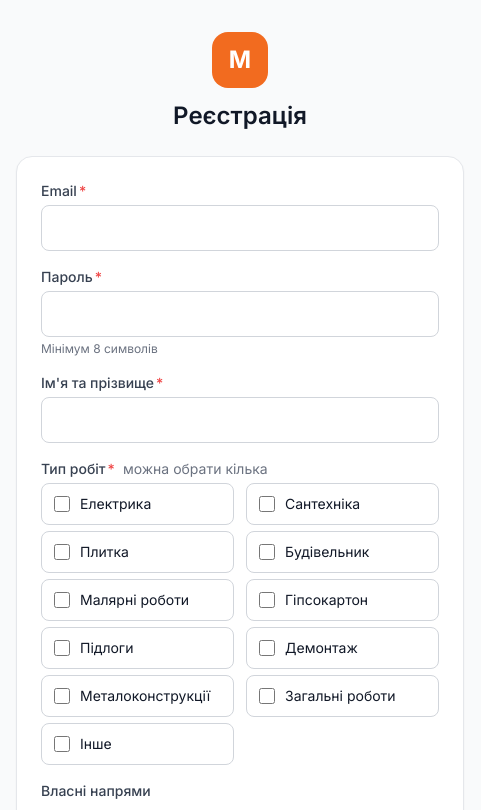
Test case: RegisterPage — privacy consent › blocks submit until the consent box is ticked
The image size is (481, 810).
In the field with id "email": (240, 228) [41,205,439,251], type "a@b.com"
In the password field labelled "Пароль* Мінімум 8 символів": (240, 314) [41,291,439,337], type "Sup3rPass!"
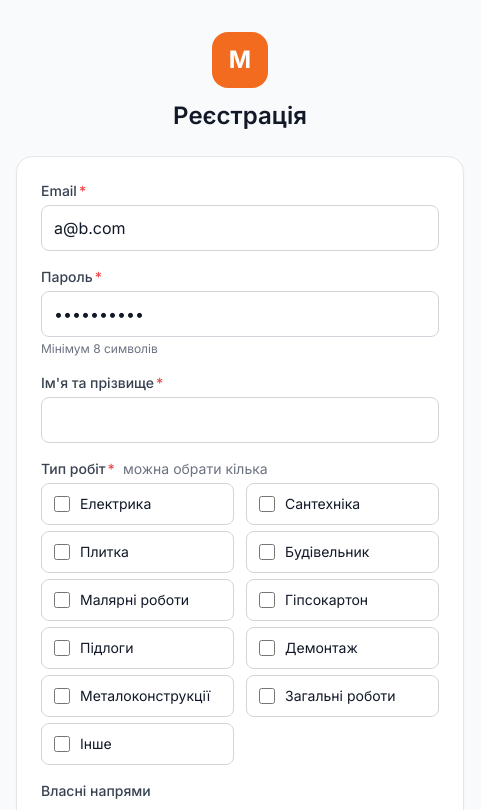
In the field with id "fullName": (240, 420) [41,397,439,443], type "Іван"
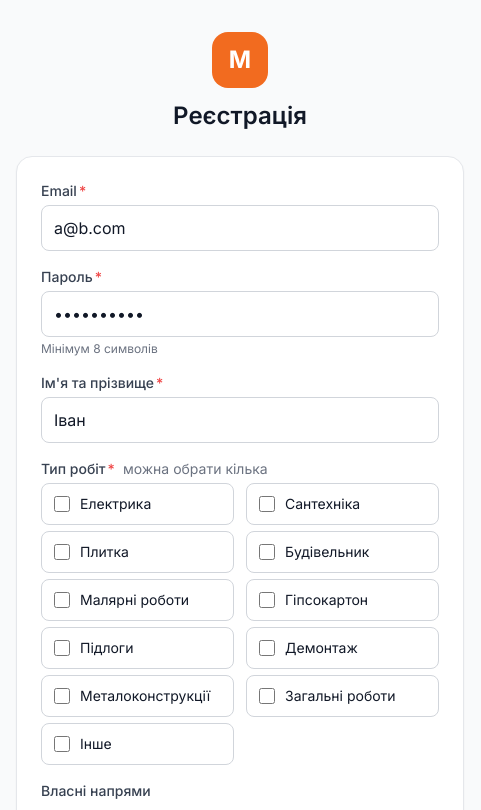
Click the checkbox labelled "Електрика": (62, 504) [54,496,70,512]
(page scrolled)
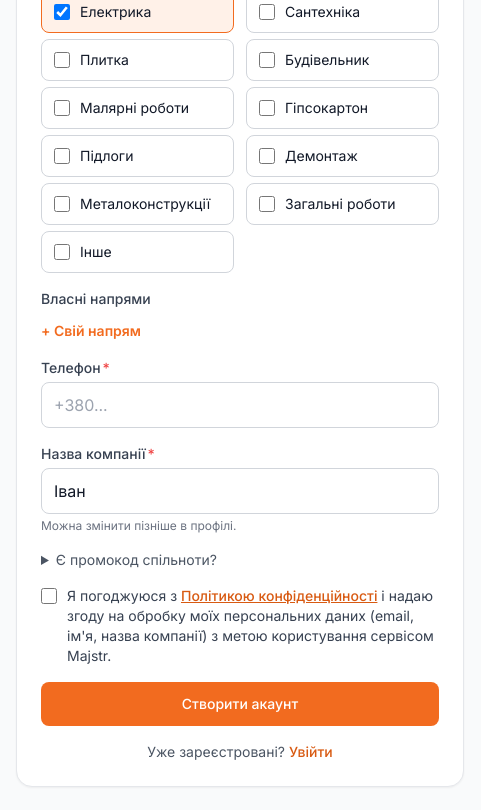
In the field labelled "Телефон*": (240, 405) [41,382,439,428], type "+380501112233"
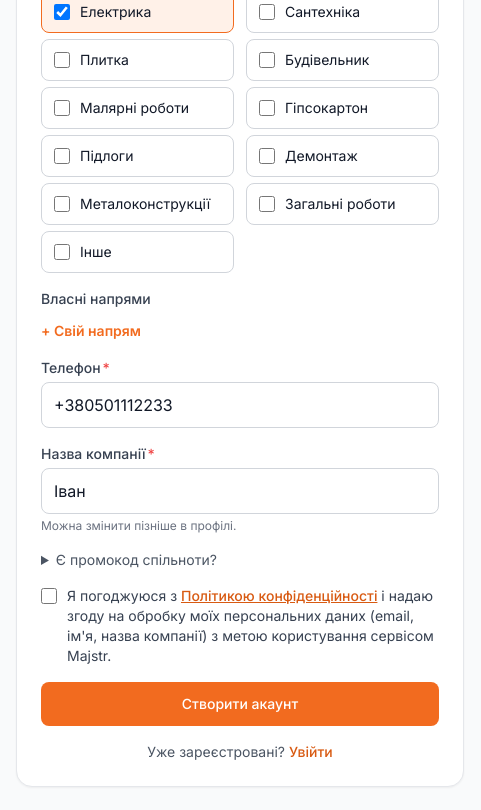
Replace the text in the field with id "companyName" with "ФОП": (240, 491) [41,468,439,514]
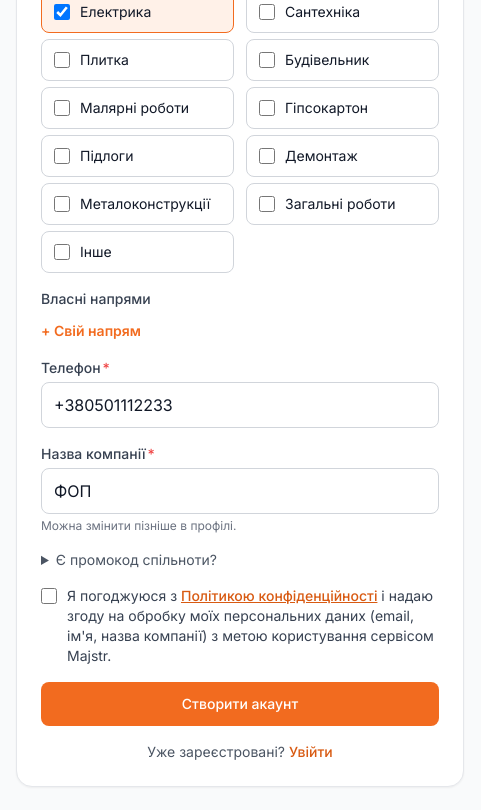
Click the button "Створити акаунт": (240, 704) [41,682,439,726]
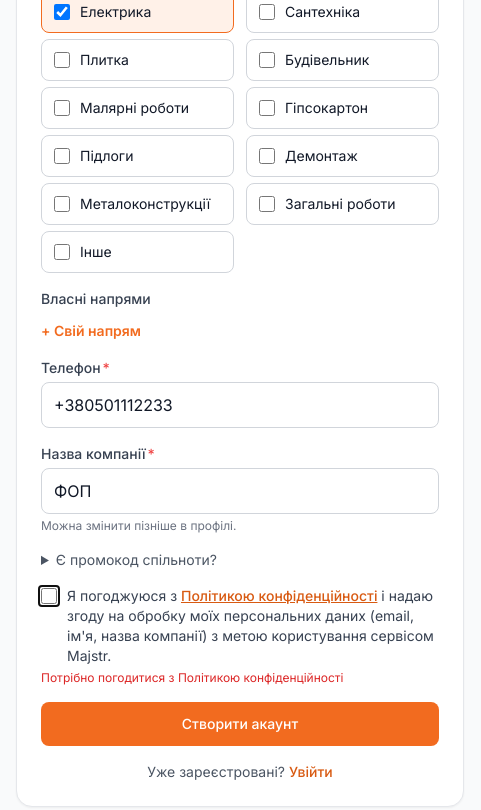
Now the text "Потрібно погодитися з Політикою конфіденційності" is shown, box [41,670,343,685]
